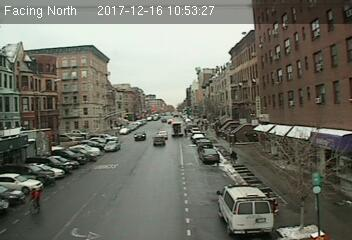bicycle: (26, 186, 43, 218)
car: (199, 148, 219, 163), (103, 140, 120, 152), (151, 135, 166, 145), (134, 131, 146, 139)
pedestrian: (230, 150, 239, 167)
police: (215, 180, 275, 235)
